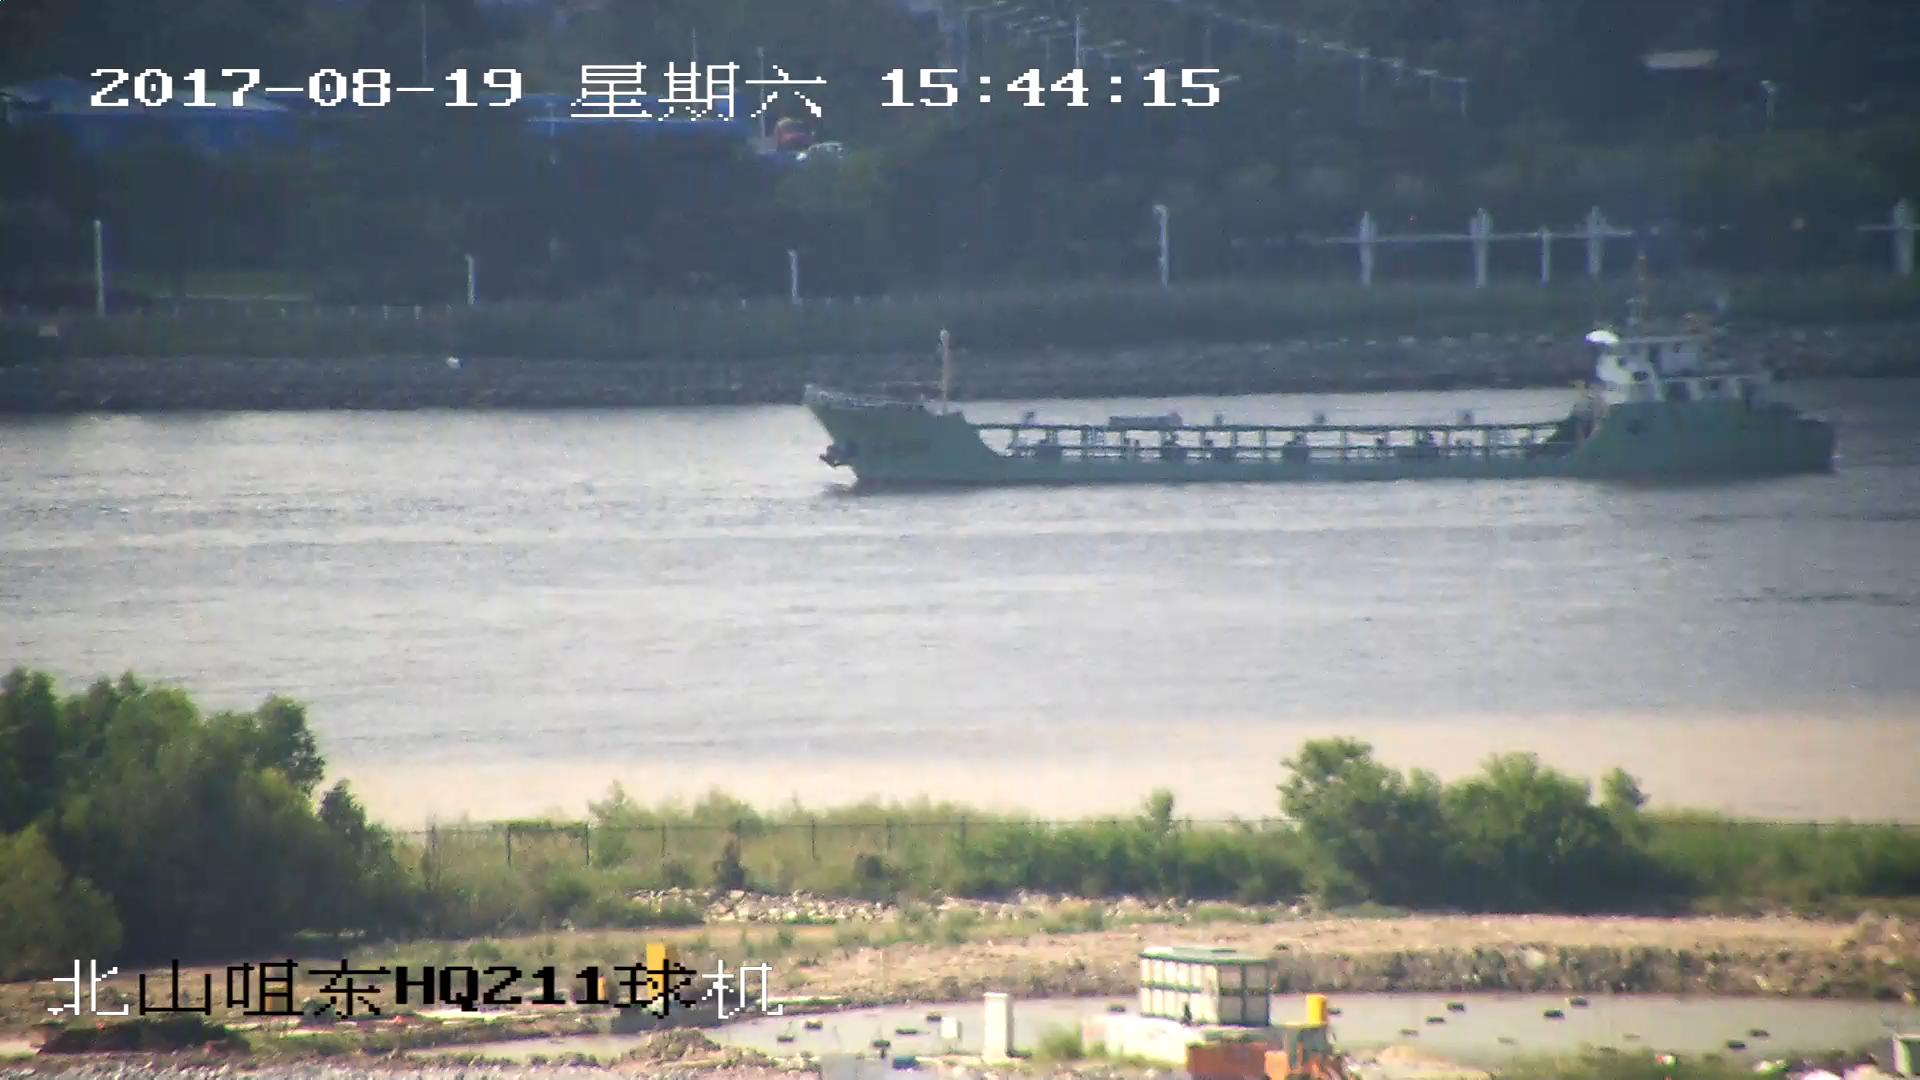general cargo ship: (802, 286, 1839, 485)
